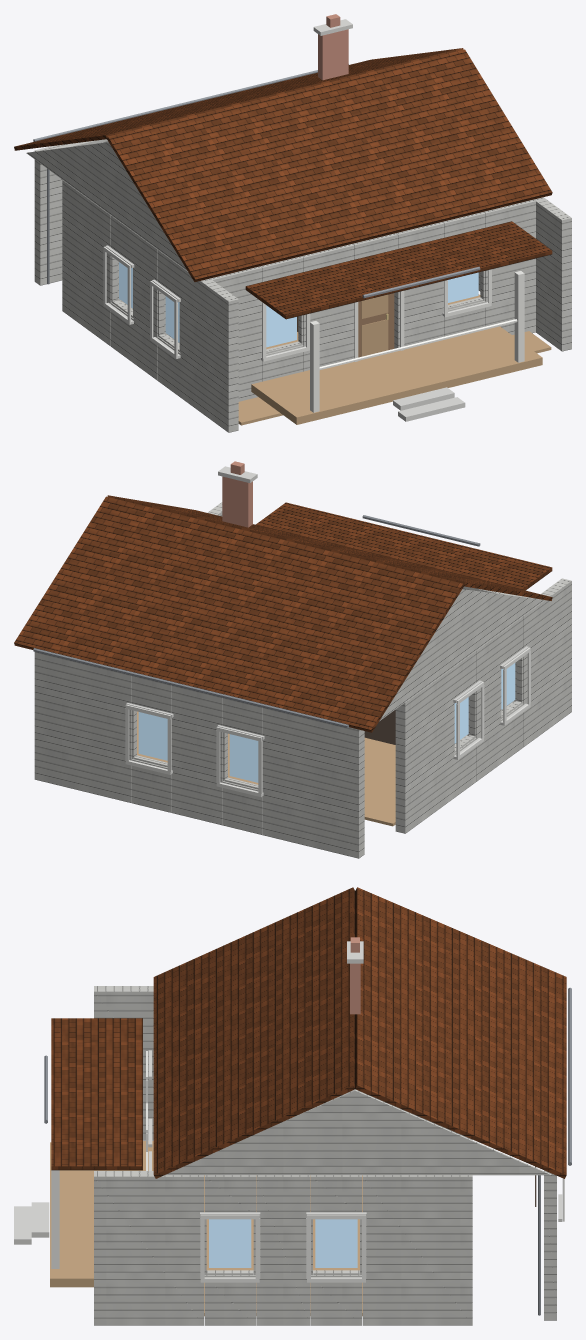
File: House_Gable.fbx
3 renders of one model, top to bottom at view 1: azimuth 30°, elevation 25°; view 2: azimuth 150°, elevation 25°; view 3: azimuth 270°, elevation 25°, orthographic. The views are drawn at different scales.
Visible parts, largest first — view 1: LOD0; view 2: LOD0; view 3: LOD0.
Boxes of the visible parts, bbox=[...] form: LOD0: bbox=[14, 14, 571, 432]; LOD0: bbox=[14, 461, 571, 858]; LOD0: bbox=[14, 887, 571, 1325].
Size of what is drawn, in the model's own units: 795 by 593 by 946.
